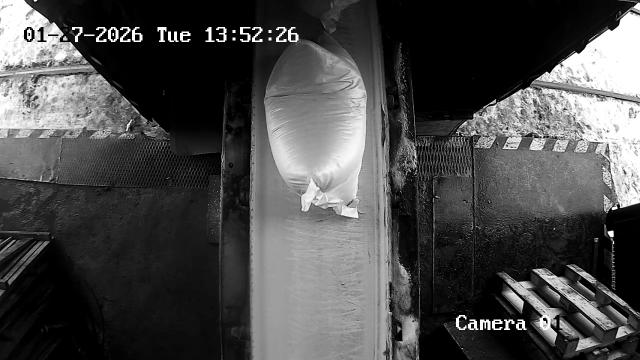bag: (264, 32, 367, 218)
